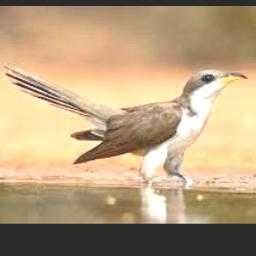Cuckoo: (4, 61, 248, 182)
